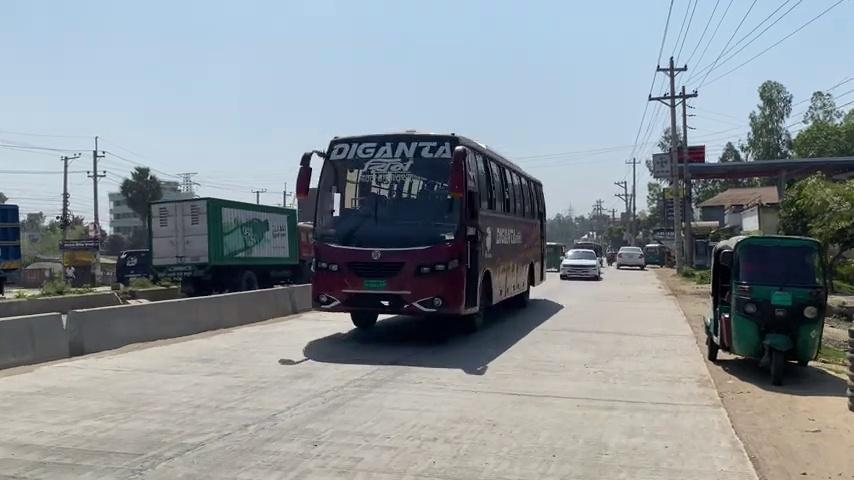Fence: (64, 264, 76, 286)
Garbage: (648, 56, 697, 271)
Obstacle: (0, 281, 313, 369)
Rickshaw: (295, 131, 547, 330), (115, 196, 312, 296), (703, 233, 828, 385), (58, 237, 101, 287)
